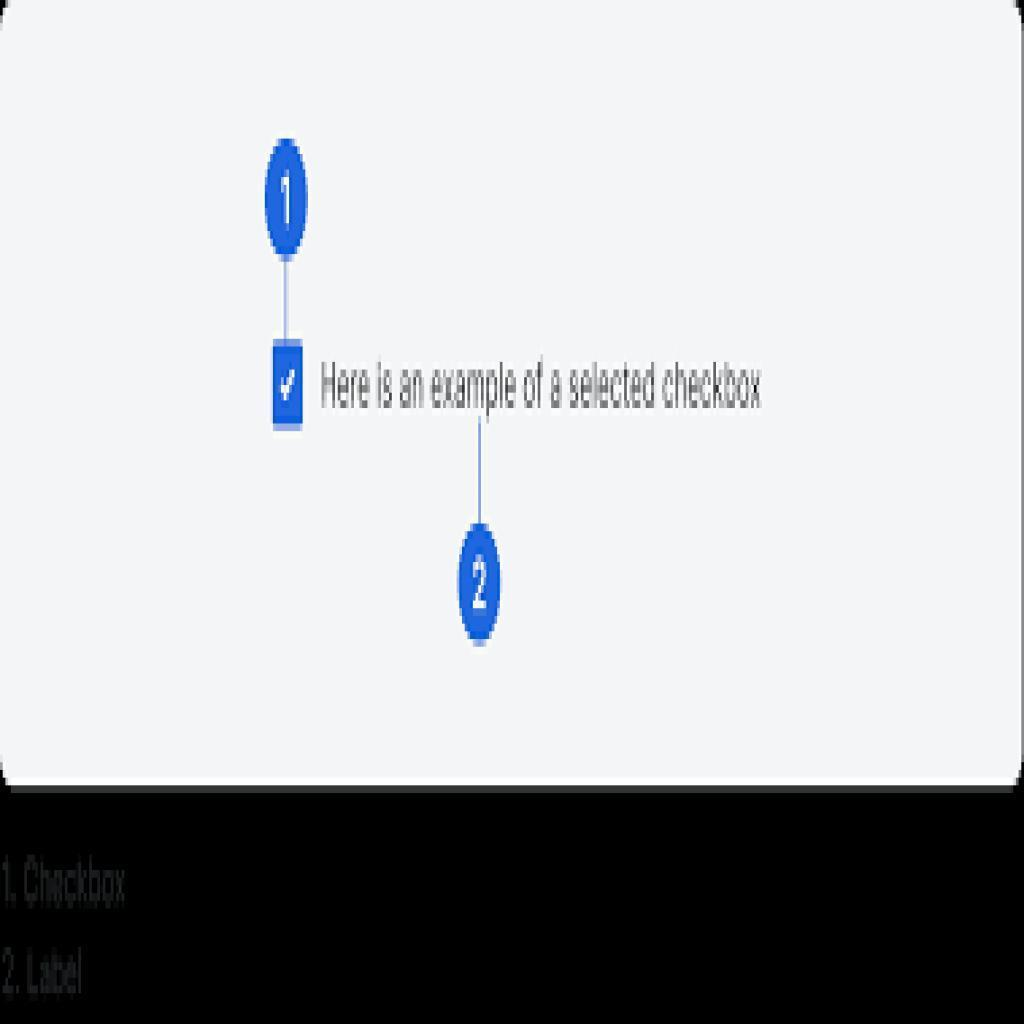checkbox: (274, 338, 304, 432)
label: (314, 355, 765, 418)
